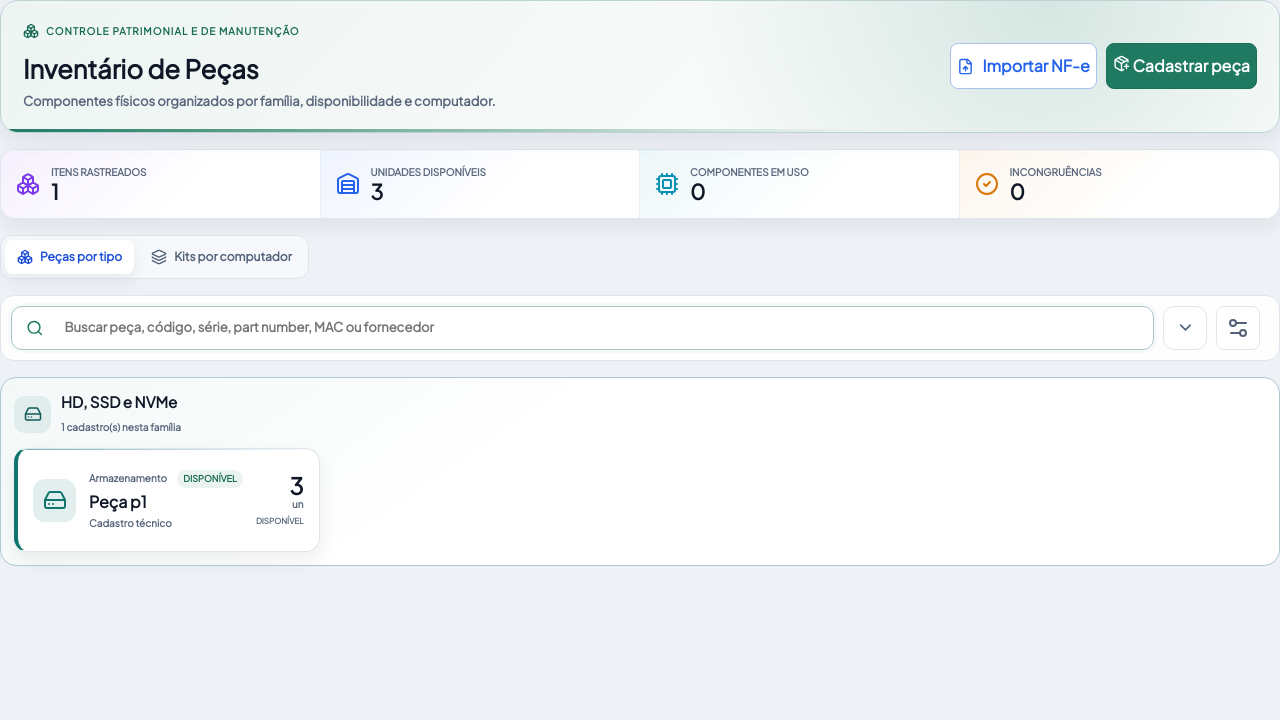
Test: PartsInventoryPage (inspetor) › inspetor sem dados opcionais usa rótulos padrão e esconde edição de peças do agente
The width and height of the screenshot is (1280, 720).
Click the button "Peça p1" at [54, 500], box [14, 448, 320, 552]
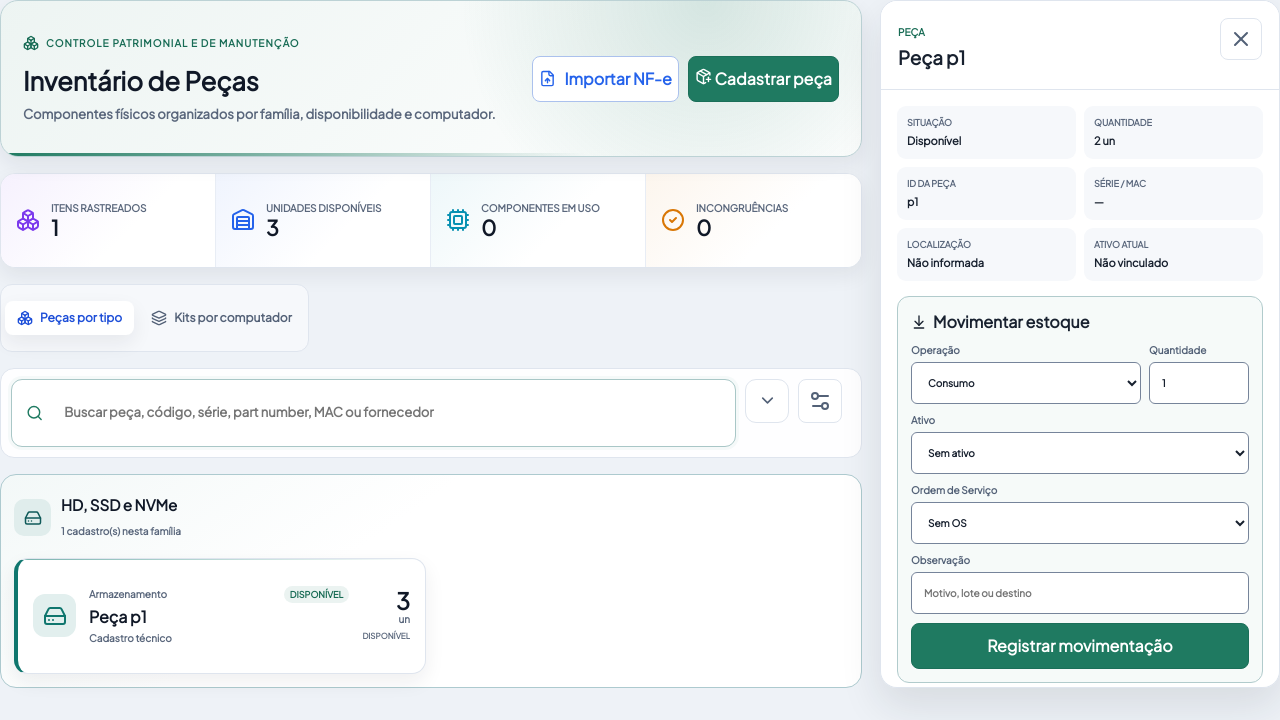
Check: the text "Peça" is shown, box [898, 26, 925, 38]
Check: the text "—" is shown, box [1094, 195, 1104, 208]
Check: the text "Não informada" is shown, box [907, 256, 984, 269]
